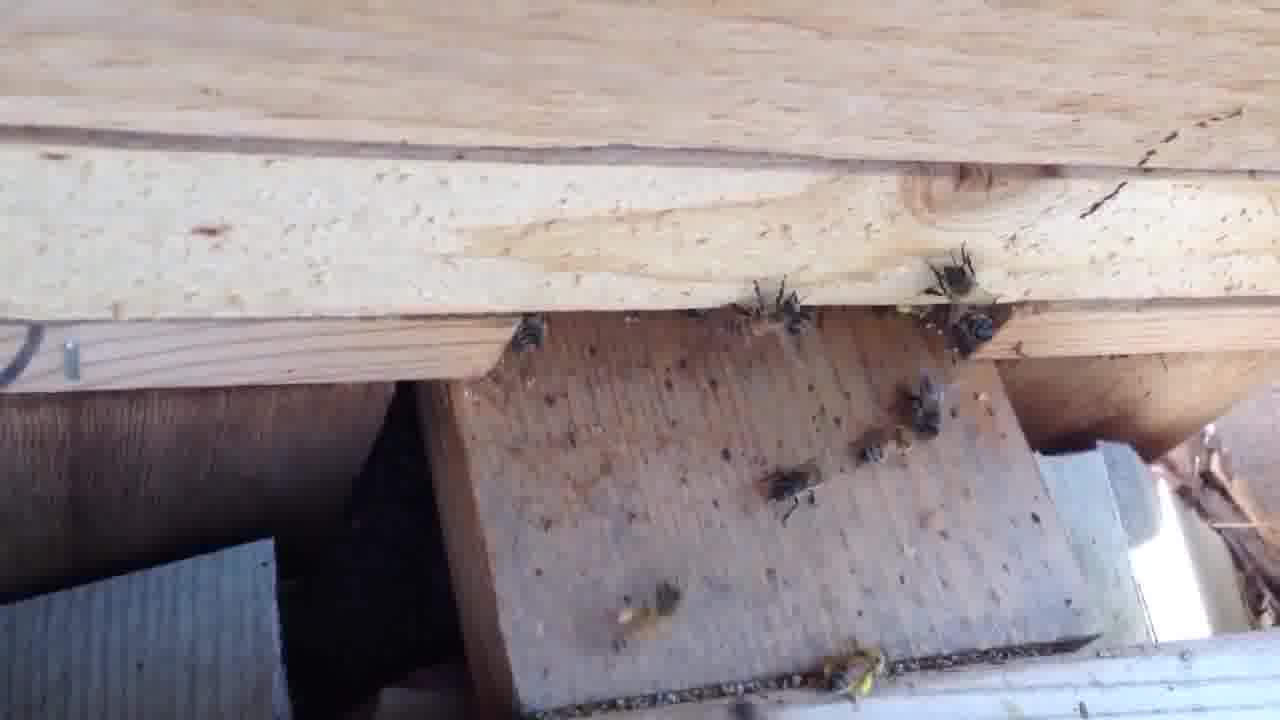pollen: (605, 576, 688, 660), (818, 632, 895, 700)
